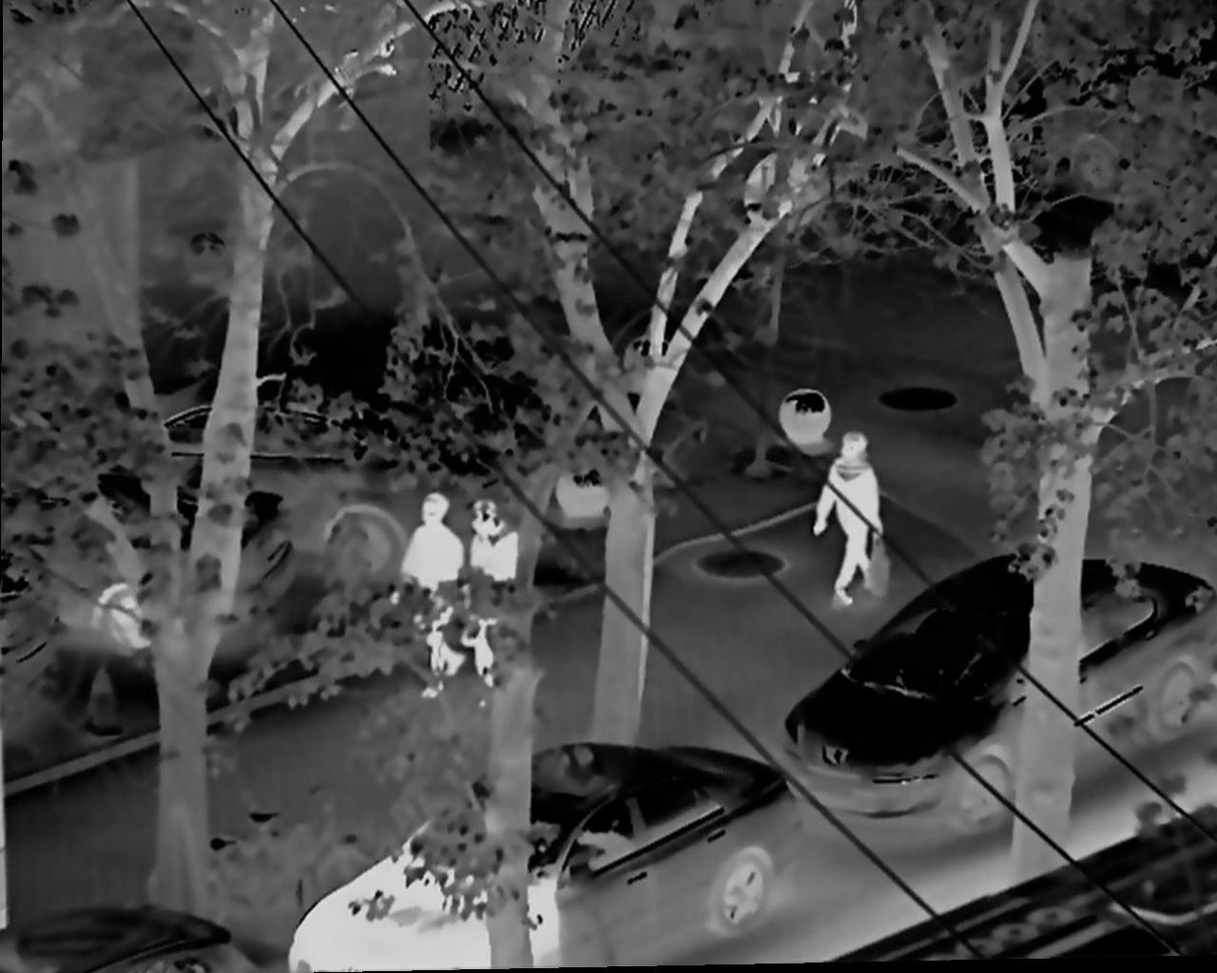person: (390, 490, 472, 702), (809, 427, 892, 608), (464, 496, 524, 713)
